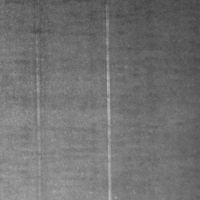scratches: (101, 4, 116, 200)
